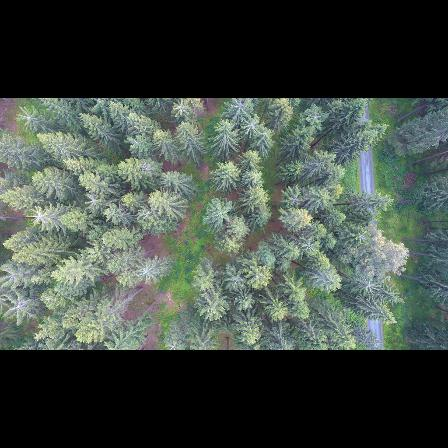Sick: (2, 290, 38, 322), (354, 277, 382, 300), (26, 205, 50, 230), (135, 260, 159, 284)
